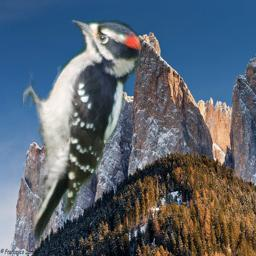Woodpecker: (23, 13, 145, 248)
